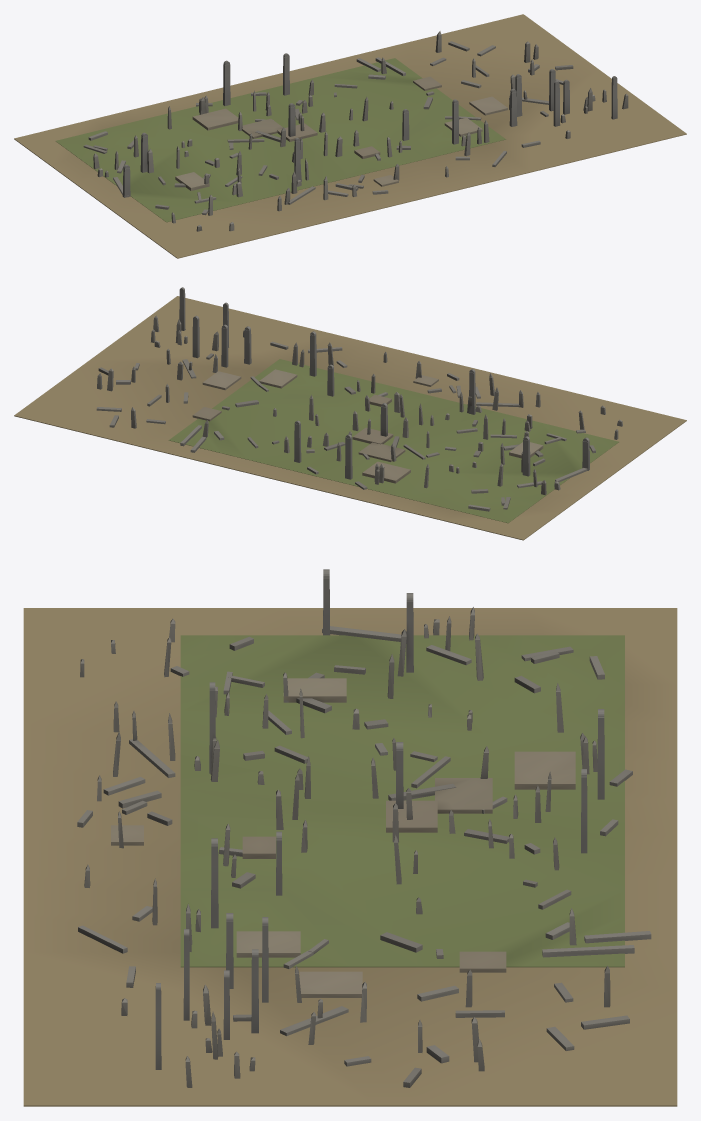
The model's file is gudit-stelae.glb.
3 views of the same model, one above another, from view 1: azimuth 30°, elevation 25°; view 2: azimuth 150°, elevation 25°; view 3: azimuth 270°, elevation 25° (orthographic). The views are drawn at different scales.
Parts seen in each view (by area): view 1: p0_ground, p1_stelae; view 2: p0_ground, p1_stelae; view 3: p0_ground, p1_stelae.
Part boxes in pixels (left/top/right/bottom): p0_ground: left=14, top=14, right=686, bottom=258; p1_stelae: left=83, top=31, right=628, bottom=231; p0_ground: left=14, top=296, right=686, bottom=540; p1_stelae: left=96, top=287, right=622, bottom=511; p0_ground: left=23, top=608, right=677, bottom=1106; p1_stelae: left=77, top=569, right=651, bottom=1087.
Size of the model in its own units: 90 by 7.6 by 50.
